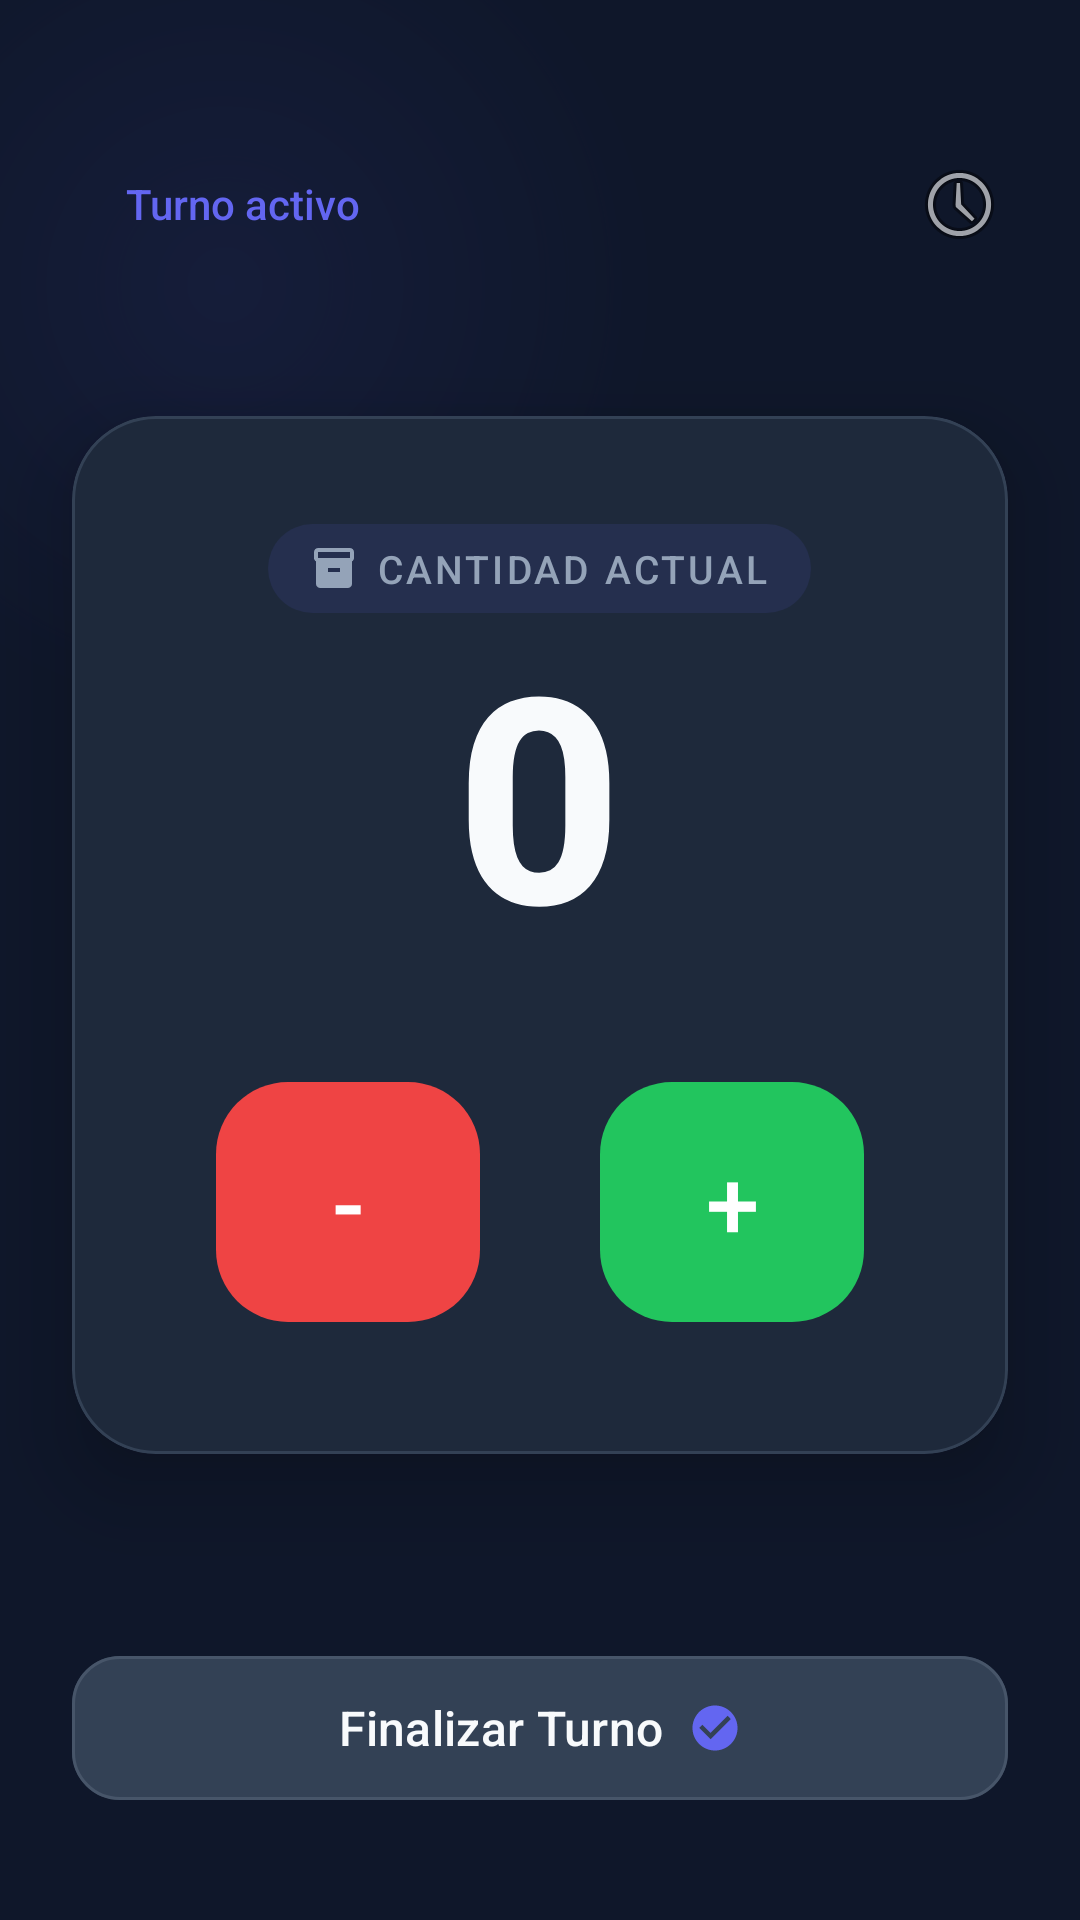

Icons on this 1080w x 1920h Android screen, each with its box as {"x1": x1, "y1": y1, "x2": x2, "y2": y2}:
Boxes: {"x1": 314, "y1": 548, "x2": 354, "y2": 588}
Historial: {"x1": 927, "y1": 172, "x2": 992, "y2": 237}
